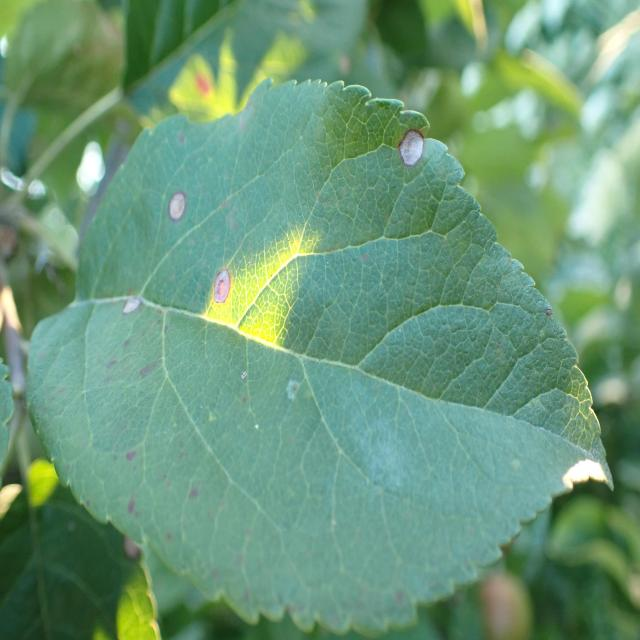Black Rot: (375, 107, 442, 186), (200, 255, 250, 335), (158, 180, 211, 243), (115, 279, 165, 339)
